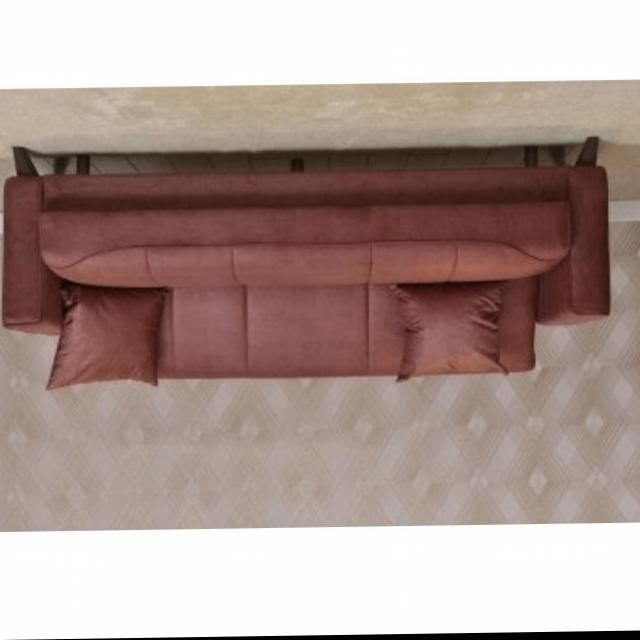Sofa: (2, 137, 611, 382)
